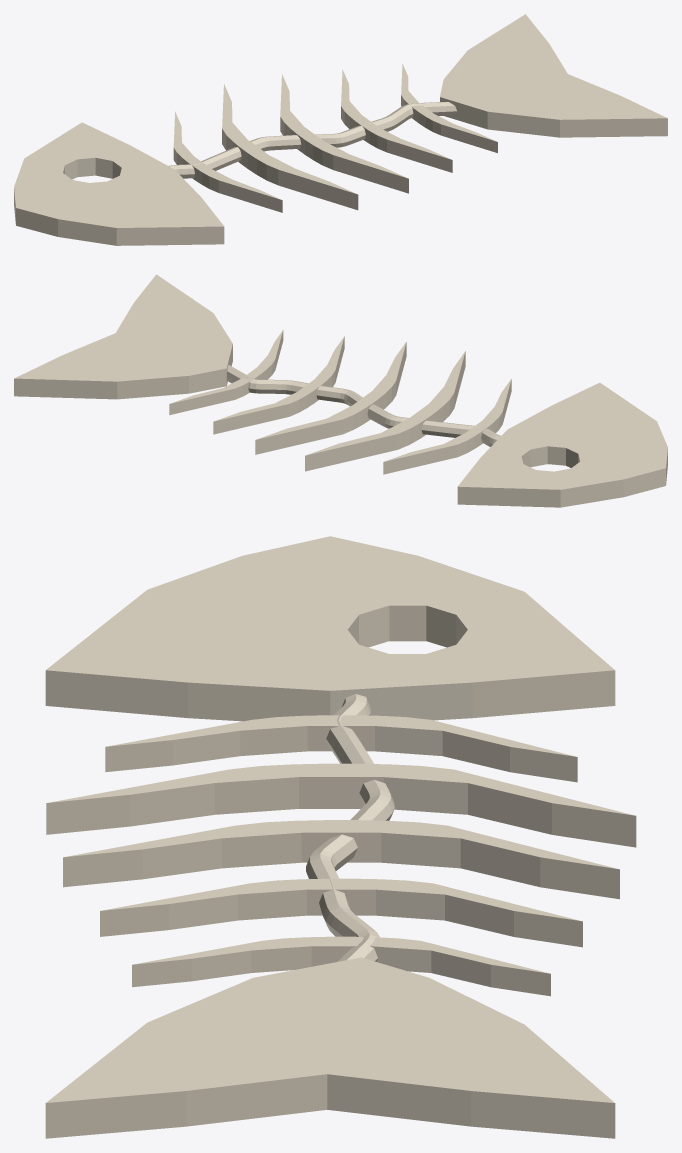
The model's file is fishBone.glb.
The picture shows the model from 3 angles, top to bottom: view 1: azimuth 30°, elevation 25°; view 2: azimuth 150°, elevation 25°; view 3: azimuth 270°, elevation 25°; orthographic projection. The views are drawn at different scales.
Visible parts, largest first — view 1: Cylinder; view 2: Cylinder; view 3: Cylinder.
Part boxes in pixels (x1,y1,x2,y2): Cylinder: (14, 14, 667, 245); Cylinder: (14, 274, 667, 507); Cylinder: (45, 536, 636, 1138).
Bounding box in the file's own units: 4.71 × 0.138 × 2.07.
